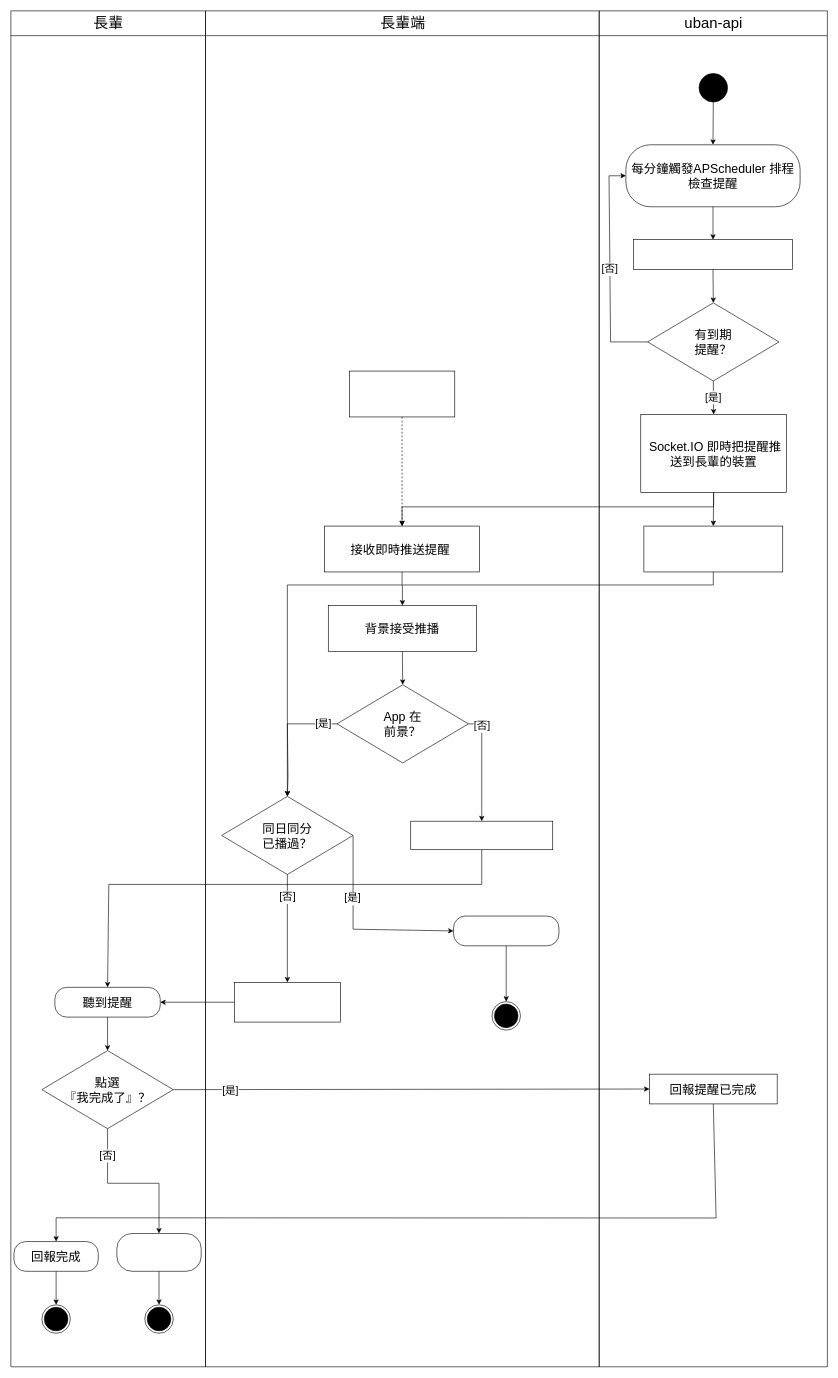
This 838x1378 diagram has some shape labels left out. The centre of each missing label's shape, as x and y in pixels:
"APP未連線時改發FCM推播喚醒" goes at [713,548].
"前景每20秒 定期比對提醒時間" goes at [402,393].
"彈出提醒視窗並語音通報" goes at [287,1002].
"忽略重複" goes at [506,930].
"掃描提醒排程表" goes at [713,254].
"發出高優先級通知" goes at [481,835].
"維持未完成 不重複轟炸" goes at [158,1252].
